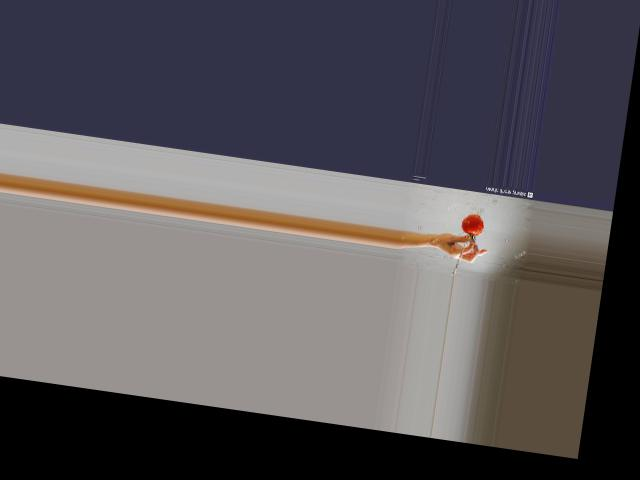tomato: (459, 211, 484, 235)
